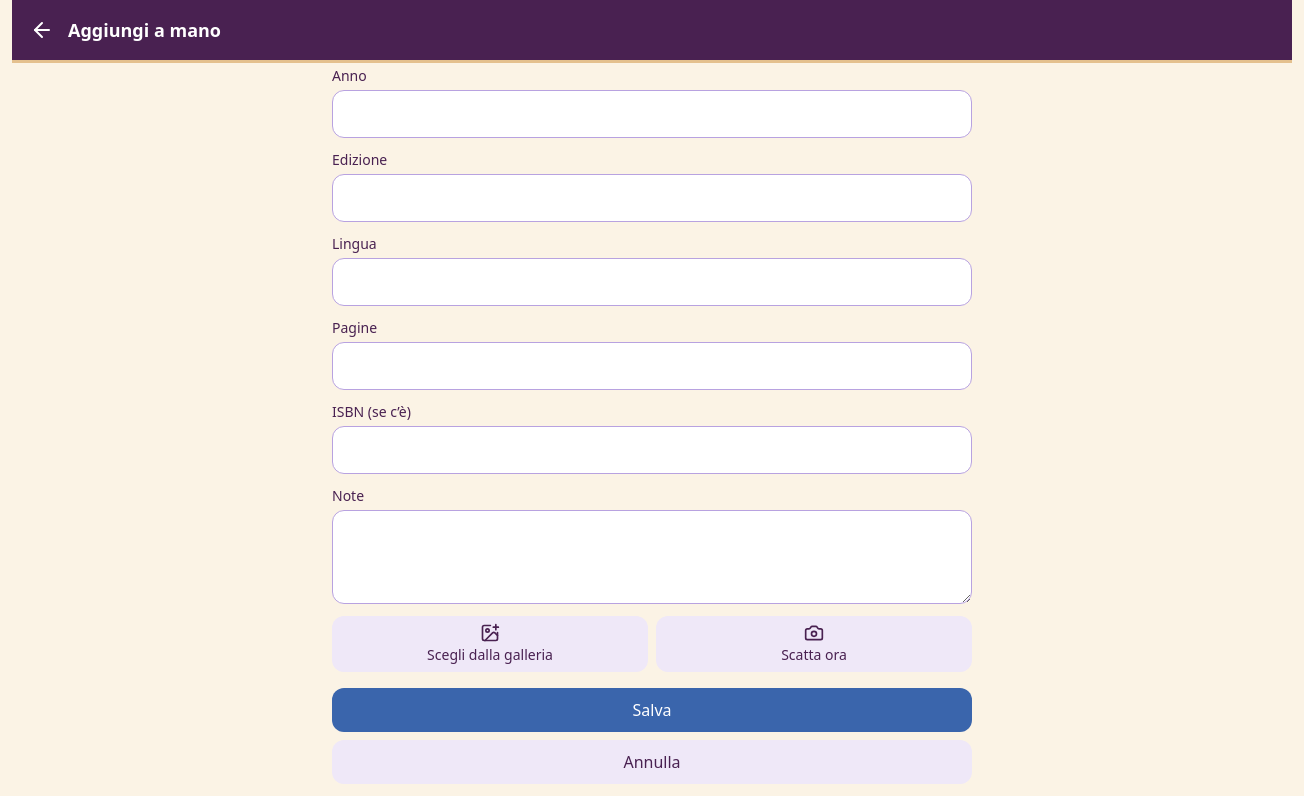
app › il modulo a mano mostra l’errore sotto il campo e non invia
(page scrolled)
Step 1. Click the button "Salva" → x=652, y=710, box [332,688,972,732]
(page scrolled)
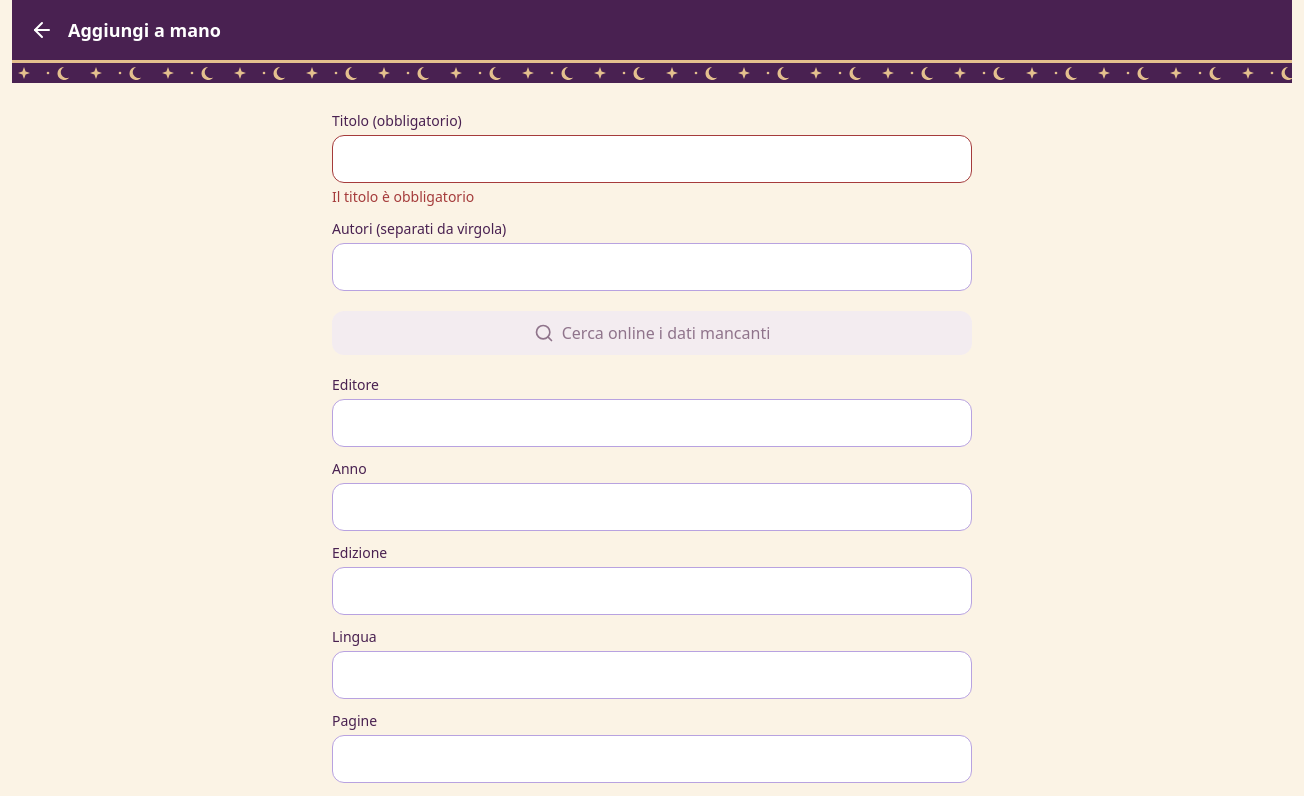
Expected: the text "Il titolo è obbligatorio" is shown, [332,187,474,206]
